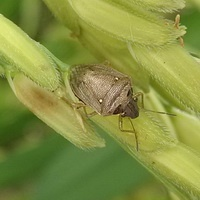insect: (69, 64, 143, 150)
